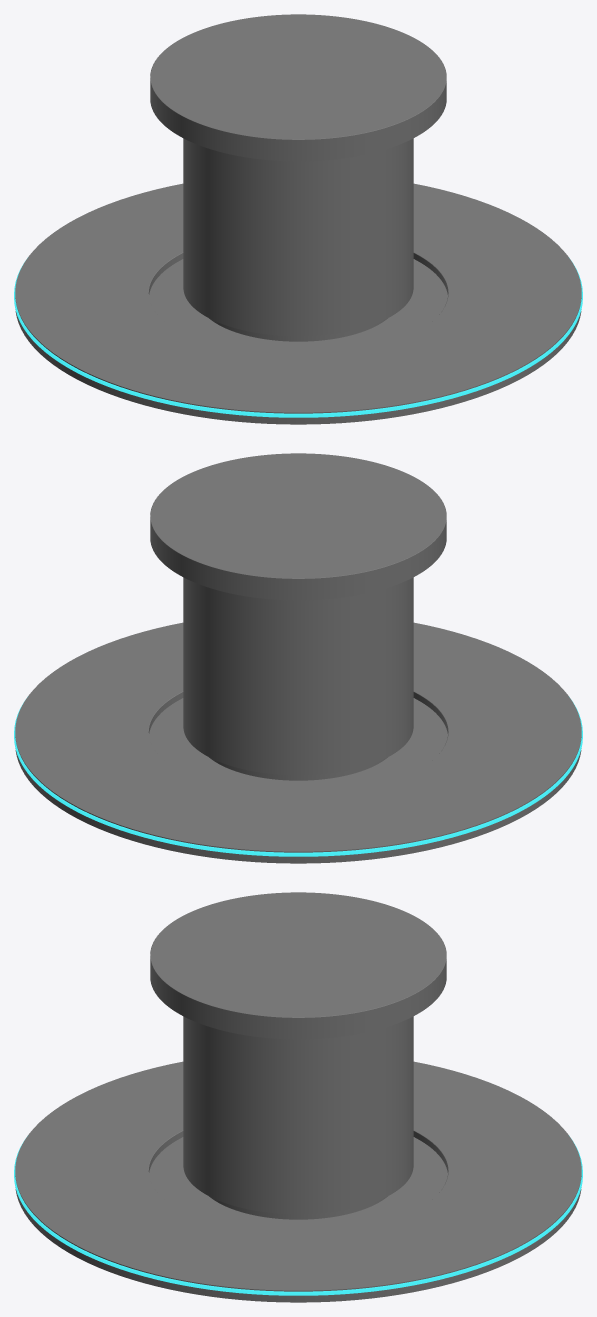
File: CenterStoneNew2.FBX
The picture shows the model from 3 angles, top to bottom: view 1: azimuth 30°, elevation 25°; view 2: azimuth 150°, elevation 25°; view 3: azimuth 270°, elevation 25°; orthographic projection.
Parts seen in each view (by area): view 1: Cylinder002; view 2: Cylinder002; view 3: Cylinder002.
Part boxes in pixels (x1,y1,x2,y2): Cylinder002: (14, 14, 582, 424); Cylinder002: (14, 453, 582, 863); Cylinder002: (14, 892, 582, 1302).
Size of the model in its own units: 388 by 172 by 388.
